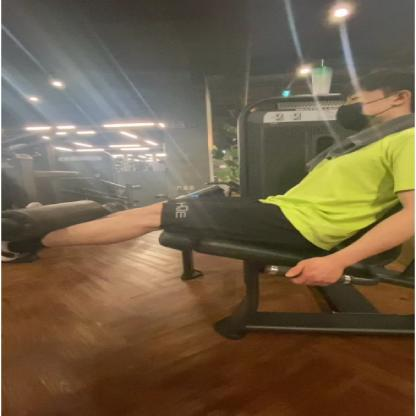leg extension: (0, 71, 416, 351)
